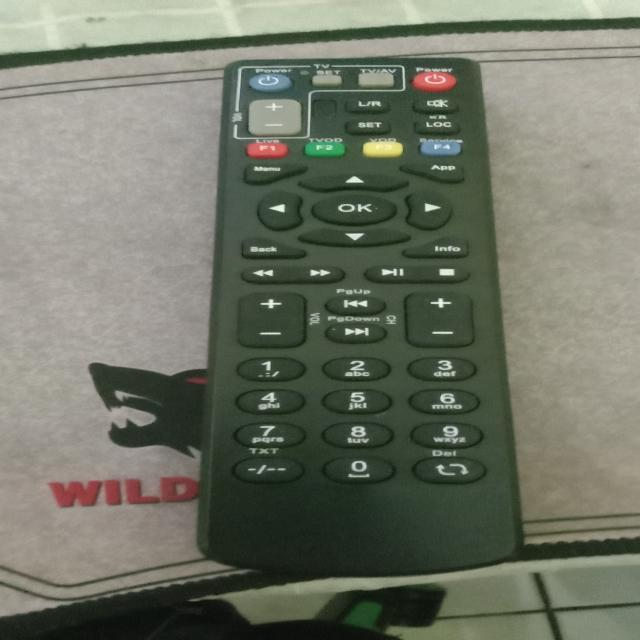remote: (195, 59, 505, 574)
